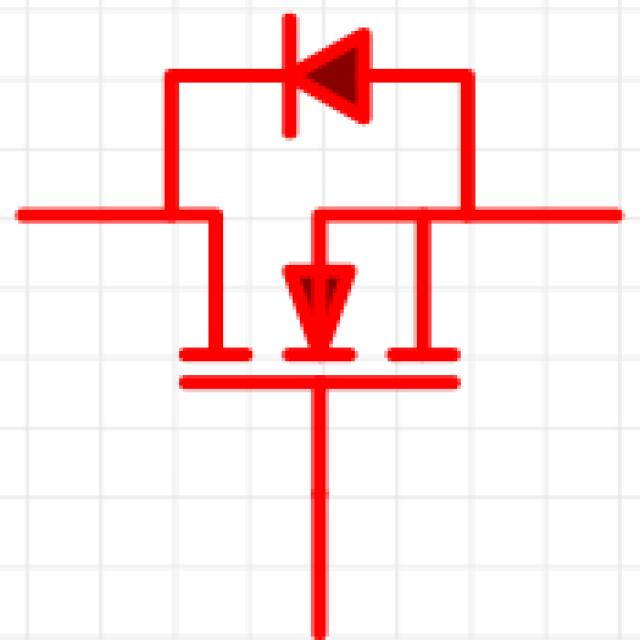nmos: (23, 12, 640, 617)
